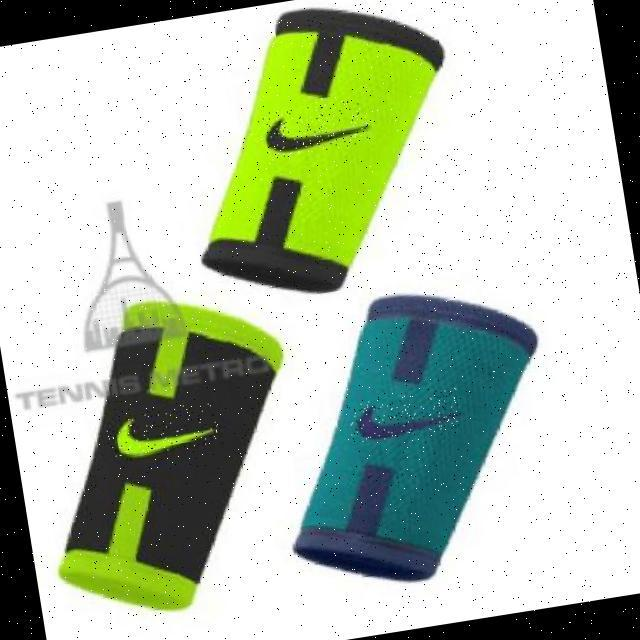Nike: (257, 98, 372, 162), (105, 401, 220, 460), (347, 388, 463, 445)
